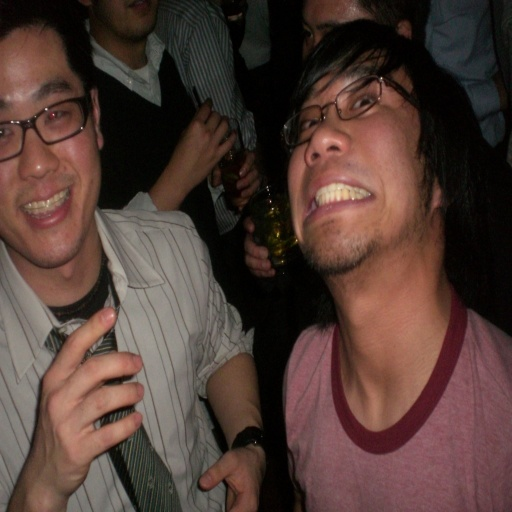hand: (24, 301, 135, 468), (168, 96, 238, 185), (197, 445, 265, 511), (208, 144, 260, 210), (242, 216, 279, 278)
